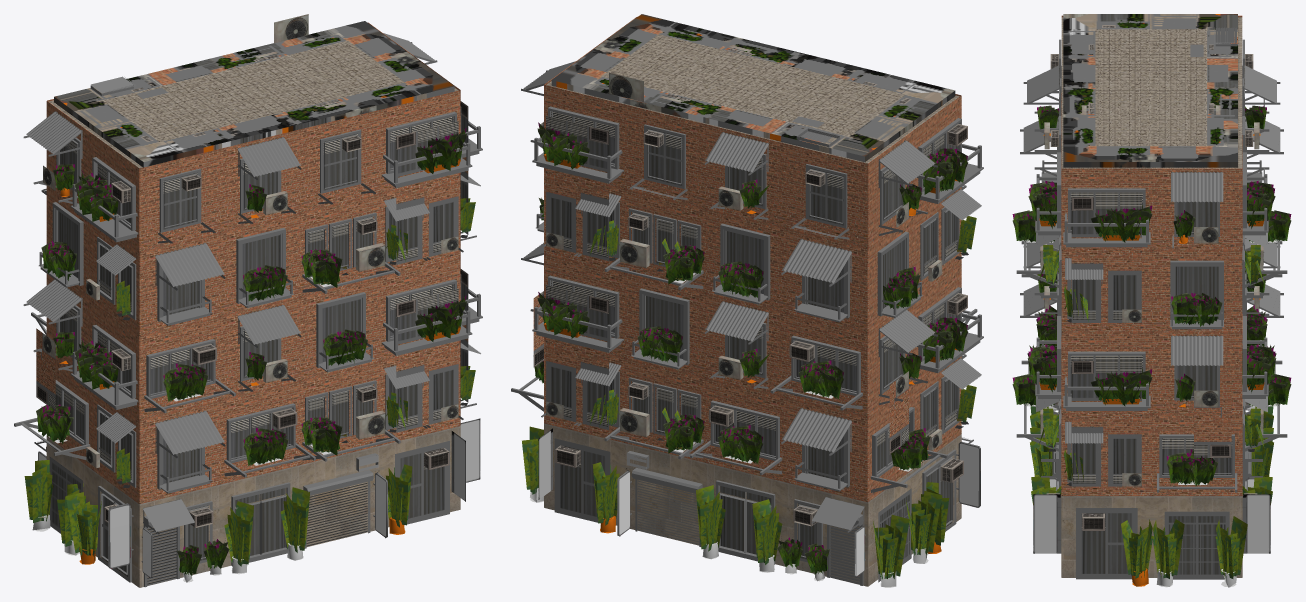
Rendered from nc_building_03.fbx.
3 renders of one model, left to right at view 1: azimuth 30°, elevation 25°; view 2: azimuth 150°, elevation 25°; view 3: azimuth 270°, elevation 25°, orthographic. The views are drawn at different scales.
Visible parts, largest first — view 1: nc_building_03_LOD0; view 2: nc_building_03_LOD0; view 3: nc_building_03_LOD0.
Part boxes in pixels (x1,y1,x2,y2): nc_building_03_LOD0: (14, 14, 482, 587); nc_building_03_LOD0: (511, 14, 983, 587); nc_building_03_LOD0: (1012, 14, 1291, 587).
Size of what is drawn, in the model's own units: 9.79 by 10.6 by 6.18.
4 materials, 4 textured.
